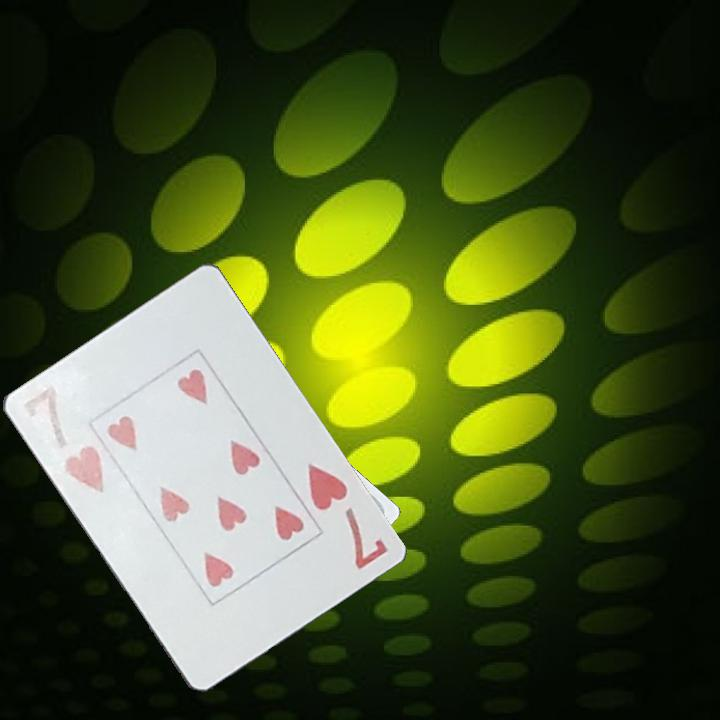7h: (19, 381, 107, 496), (303, 460, 390, 573)
